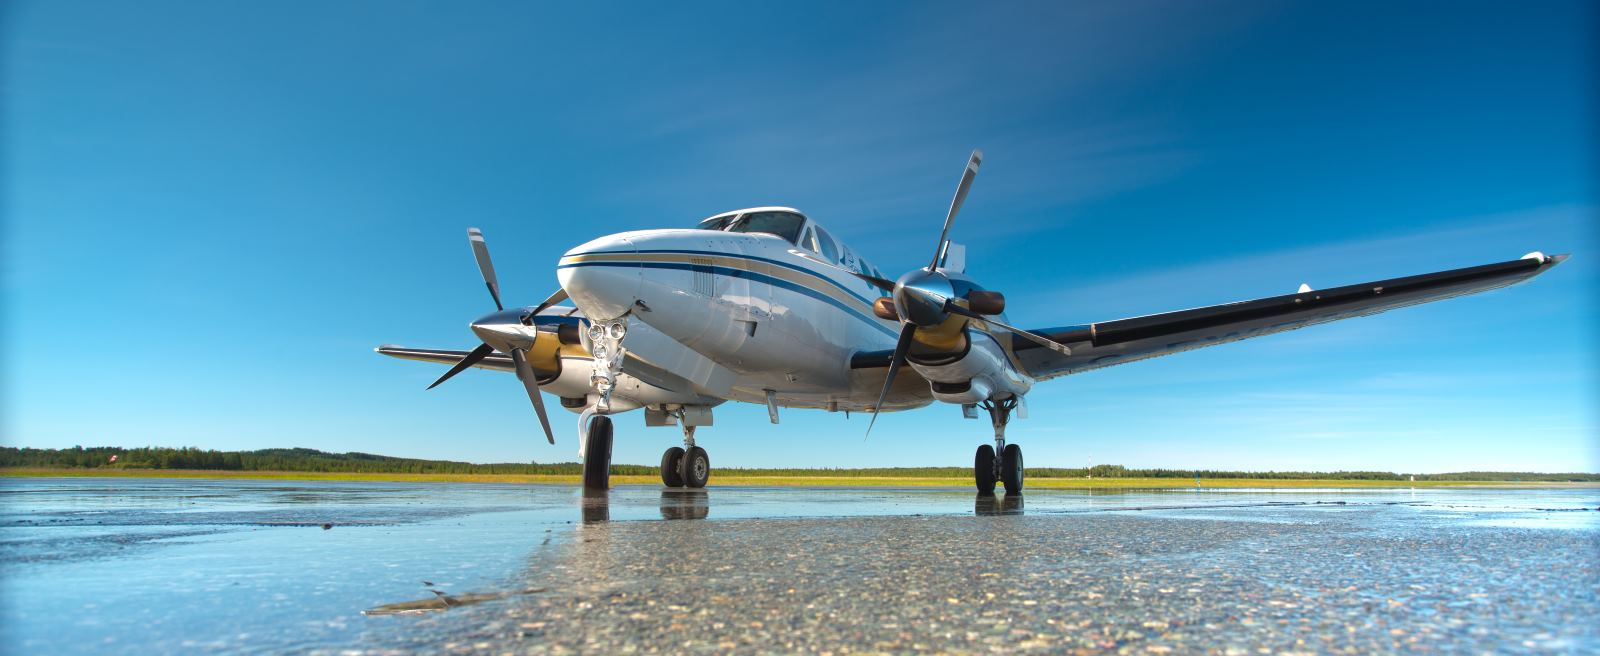Aeronef_commercial: (360, 133, 1573, 513)
